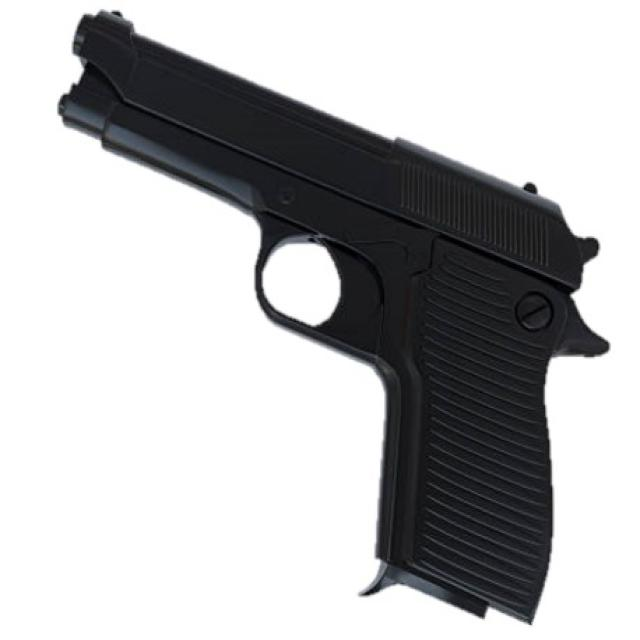pistol: (45, 1, 626, 628)
